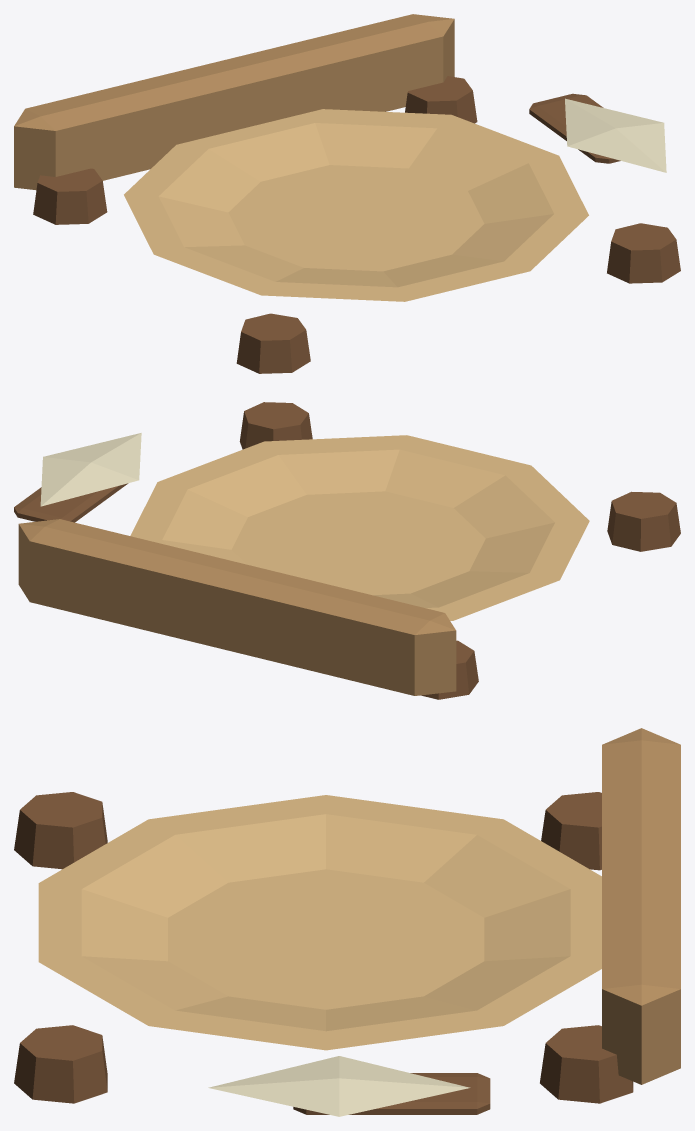
Rendered from CC_Toilet.fbx.
3 renders of one model, top to bottom at view 1: azimuth 30°, elevation 25°; view 2: azimuth 150°, elevation 25°; view 3: azimuth 270°, elevation 25°, orthographic. The views are drawn at different scales.
Visible parts, largest first — view 1: Hollow seat, Back panel, Leaf paper, Leg.032, Leg.034, Leg.033, Leg.035, Paper holder; view 2: Hollow seat, Back panel, Leaf paper, Leg.032, Leg.034, Paper holder, Leg.033; view 3: Hollow seat, Back panel, Leaf paper, Leg.034, Leg.032, Leg.035, Leg.033, Paper holder.
Part boxes in pixels (left/top/right/bottom): Hollow seat: left=124, top=109, right=588, bottom=301; Back panel: left=14, top=14, right=454, bottom=190; Leaf paper: left=565, top=98, right=666, bottom=172; Leg.032: left=236, top=313, right=310, bottom=373; Leg.034: left=607, top=223, right=680, bottom=283; Leg.033: left=33, top=168, right=107, bottom=224; Leg.035: left=405, top=76, right=477, bottom=123; Paper holder: left=529, top=93, right=620, bottom=163; Hollow seat: left=130, top=435, right=589, bottom=620; Back panel: left=18, top=519, right=456, bottom=695; Leaf paper: left=40, top=433, right=141, bottom=506; Leg.032: left=607, top=491, right=680, bottom=551; Leg.034: left=239, top=402, right=312, bottom=449; Paper holder: left=14, top=483, right=128, bottom=522; Leg.033: left=421, top=640, right=478, bottom=699; Hollow seat: left=38, top=795, right=601, bottom=1050; Back panel: left=602, top=728, right=680, bottom=1084; Leaf paper: left=208, top=1056, right=470, bottom=1116; Leg.034: left=14, top=1025, right=107, bottom=1103; Leg.032: left=14, top=792, right=107, bottom=869; Leg.035: left=540, top=1025, right=633, bottom=1103; Leg.033: left=541, top=792, right=601, bottom=870; Paper holder: left=293, top=1073, right=490, bottom=1114.
Bounding box in the file's own units: 2.9 × 0.42 × 2.44.
